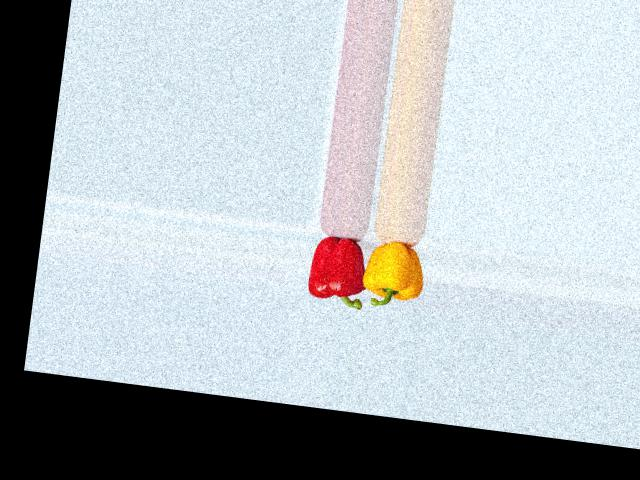bell_pepper: (300, 226, 373, 307)
